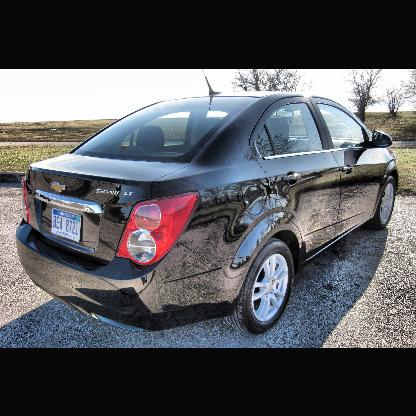Chevrolet Sonic Sedan 2012: (17, 72, 398, 337)
